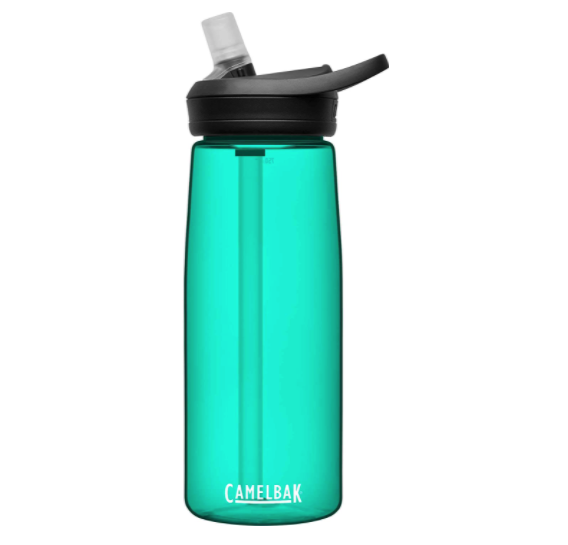bottle_cap: (159, 13, 407, 148)
water_bottle: (157, 11, 400, 535)
